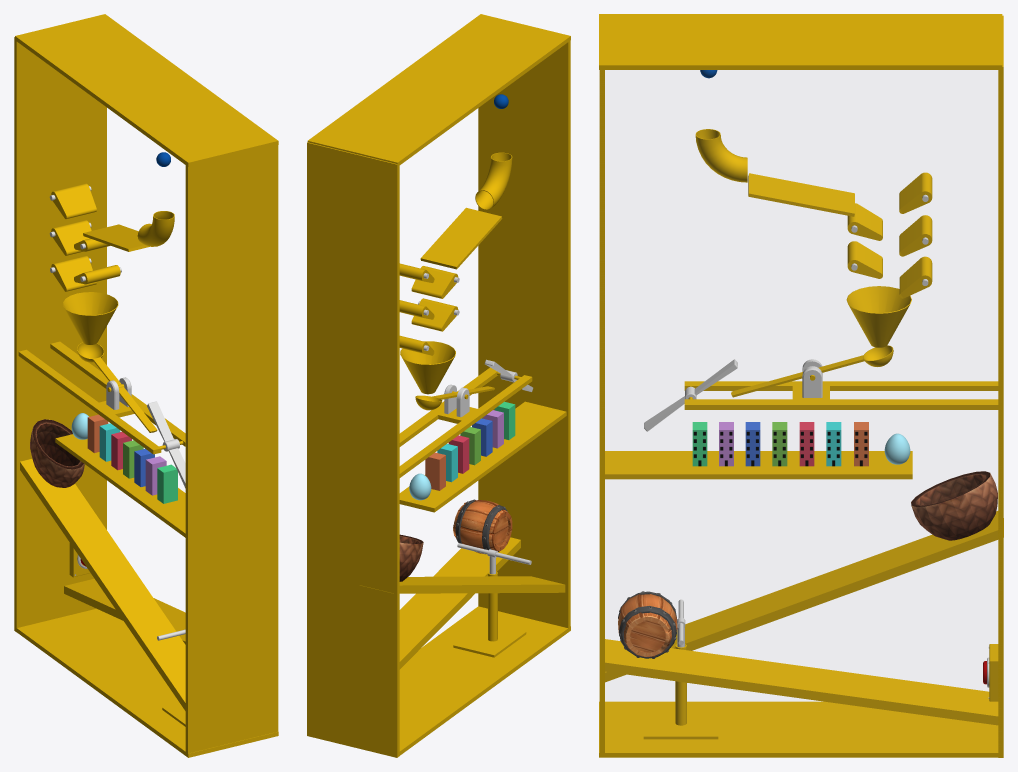
3 renders of one model, left to right at view 1: azimuth 30°, elevation 25°; view 2: azimuth 150°, elevation 25°; view 3: azimuth 270°, elevation 25°, orthographic. The views are drawn at different scales.
Parts seen in each view (by area): view 1: Masina_1_ram, Postolje2, Postolje_za_klackalicu, Postolje1, Korpa, Levak, Postolje3, Kasika_od_klackalice, Fliper4, Dascica_1, Fliper3, Elise (+10 smaller); view 2: Masina_1_ram, Postolje3, Postolje1, Postolje_za_klackalicu, Postolje2, Burence, Dascica_1, Stalak, Levak, Tunel, Fliper, Fliper5 (+11 smaller); view 3: Masina_1_ram, Postolje3, Postolje2, Postolje1, Postolje_za_klackalicu, Korpa, Burence, Levak, Dascica_1, Stalak, Tunel, Kasika_od_klackalice (+13 smaller).
Boxes of the visible parts, left/top/right/bottom form: Masina_1_ram: left=14, top=14, right=278, bottom=757; Postolje2: left=20, top=458, right=185, bottom=710; Postolje_za_klackalicu: left=18, top=341, right=185, bottom=454; Postolje1: left=55, top=434, right=185, bottom=537; Korpa: left=30, top=419, right=84, bottom=487; Levak: left=62, top=292, right=118, bottom=344; Postolje3: left=64, top=578, right=185, bottom=644; Kasika_od_klackalice: left=77, top=342, right=157, bottom=432; Fliper4: left=49, top=183, right=96, bottom=218; Dascica_1: left=83, top=224, right=149, bottom=251; Fliper3: left=50, top=256, right=96, bottom=291; Elise: left=147, top=401, right=185, bottom=488; Masina_1_ram: left=307, top=14, right=570, bottom=757; Postolje3: left=399, top=537, right=520, bottom=669; Postolje1: left=399, top=401, right=566, bottom=512; Postolje_za_klackalicu: left=399, top=367, right=532, bottom=477; Postolje2: left=360, top=576, right=565, bottom=593; Burence: left=453, top=499, right=512, bottom=554; Dascica_1: left=420, top=207, right=502, bottom=269; Stalak: left=453, top=571, right=526, bottom=657; Levak: left=400, top=341, right=455, bottom=394; Tunel: left=475, top=152, right=512, bottom=210; Fliper: left=411, top=266, right=459, bottom=298; Fliper5: left=411, top=298, right=459, bottom=331; Masina_1_ram: left=599, top=14, right=1003, bottom=757; Postolje3: left=605, top=639, right=998, bottom=725; Postolje2: left=605, top=511, right=1003, bottom=682; Postolje1: left=605, top=451, right=912, bottom=479; Postolje_za_klackalicu: left=684, top=359, right=998, bottom=409; Korpa: left=911, top=471, right=997, bottom=540; Burence: left=618, top=591, right=677, bottom=658; Levak: left=846, top=286, right=911, bottom=347; Dascica_1: left=748, top=173, right=854, bottom=216; Stalak: left=643, top=644, right=718, bottom=739; Tunel: left=695, top=129, right=747, bottom=182; Kasika_od_klackalice: left=731, top=345, right=893, bottom=397.
Size of the model in its own units: 0.0794 by 0.4906 by 0.2598.
17 materials, 10 textured.
